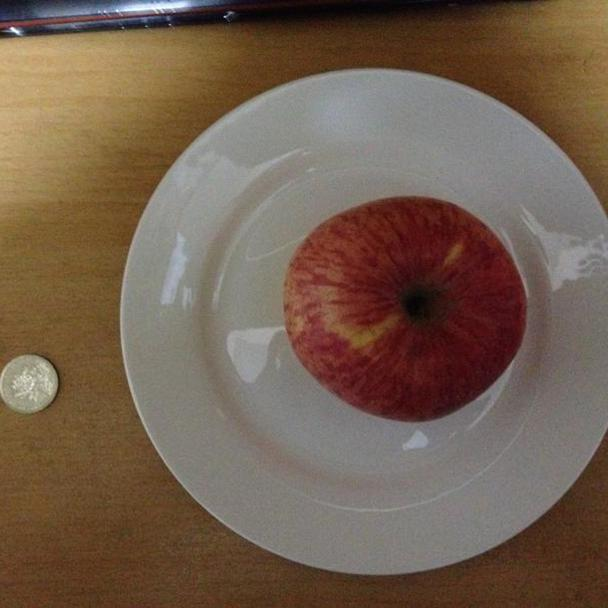apple: (281, 198, 529, 424)
